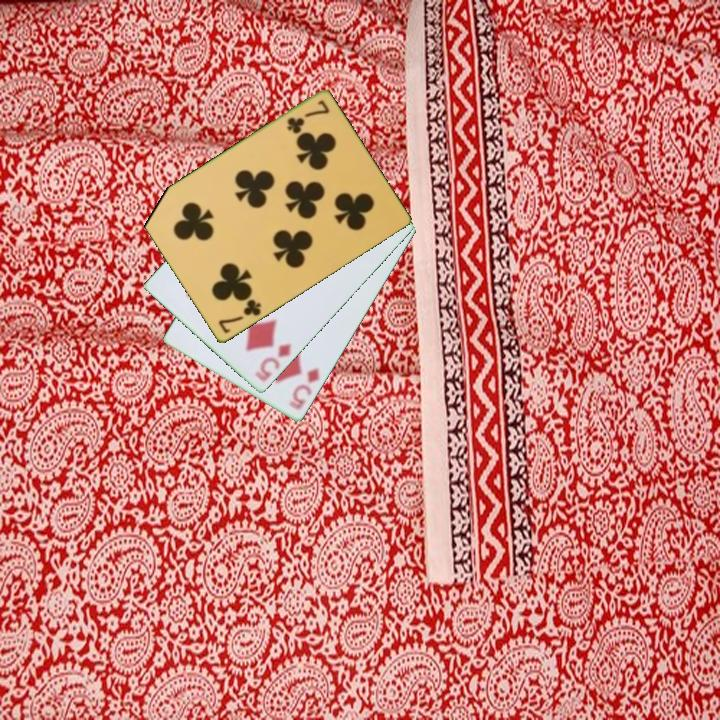5d: (251, 340, 295, 385), (286, 365, 323, 413)
7c: (215, 296, 265, 337), (283, 97, 332, 137)
